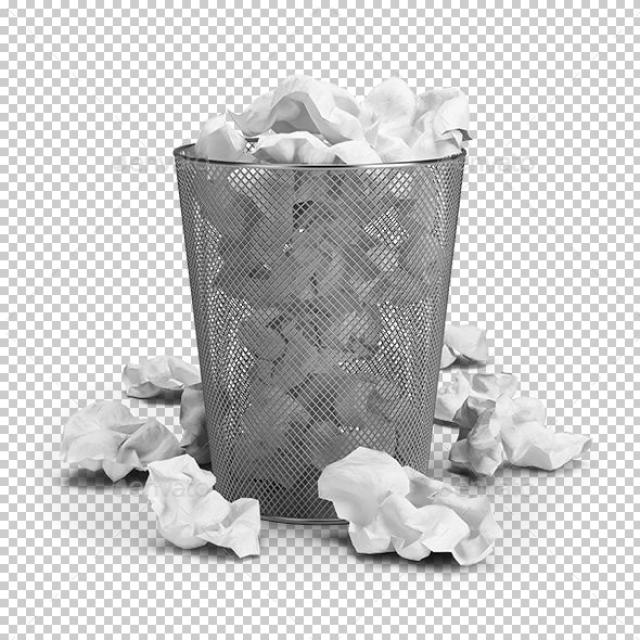PaperCardboard: (185, 77, 468, 164), (318, 451, 495, 562), (56, 350, 206, 476), (437, 366, 588, 472), (146, 457, 262, 553), (442, 322, 488, 372)
